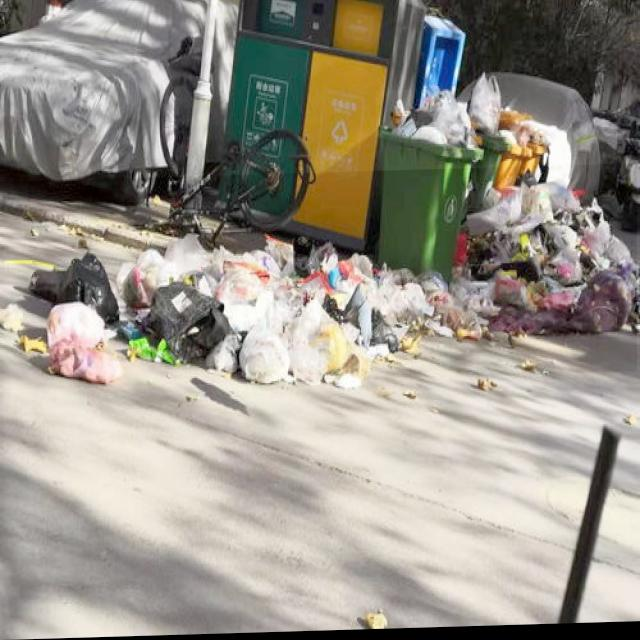garbage: (0, 167, 637, 390)
overflow: (376, 91, 475, 288)
